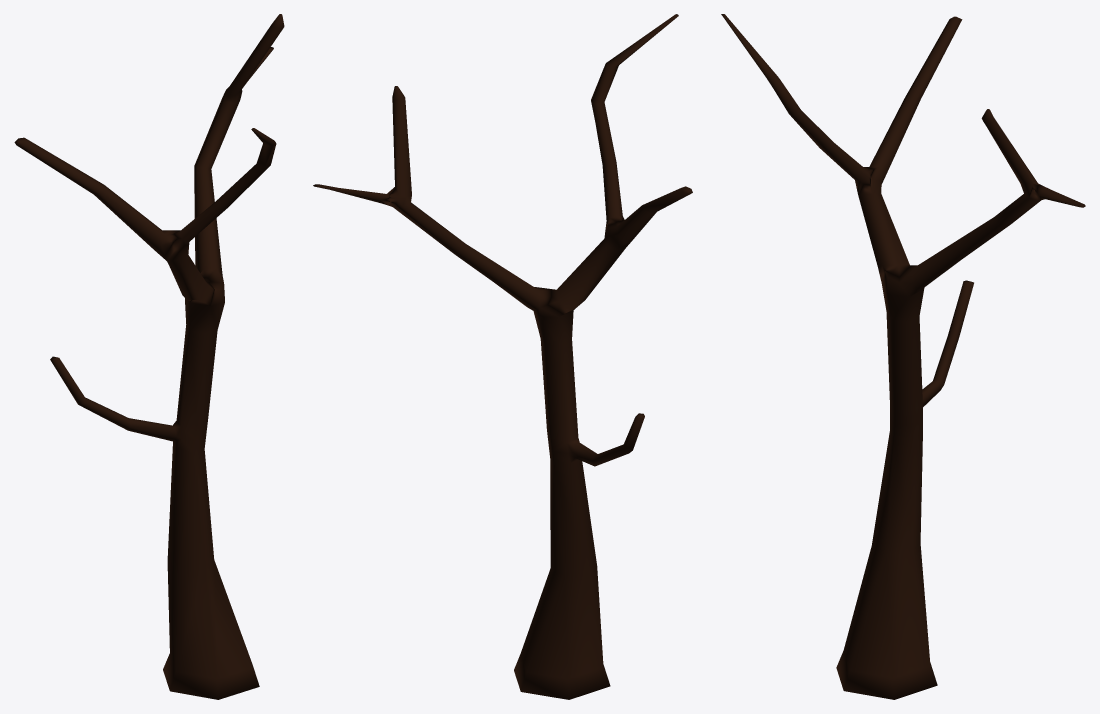
File: LowPoly Tree .022.fbx
The picture shows the model from 3 angles, left to right: view 1: azimuth 30°, elevation 25°; view 2: azimuth 150°, elevation 25°; view 3: azimuth 270°, elevation 25°; orthographic projection. The views are drawn at different scales.
Parts seen in each view (by area): view 1: LowPoly Tree .022; view 2: LowPoly Tree .022; view 3: LowPoly Tree .022.
Part boxes in pixels (bbox=[...]): LowPoly Tree .022: bbox=[14, 14, 284, 699]; LowPoly Tree .022: bbox=[313, 14, 692, 699]; LowPoly Tree .022: bbox=[721, 14, 1085, 699].
Size of the model in its own units: 597 by 566 by 1104.
